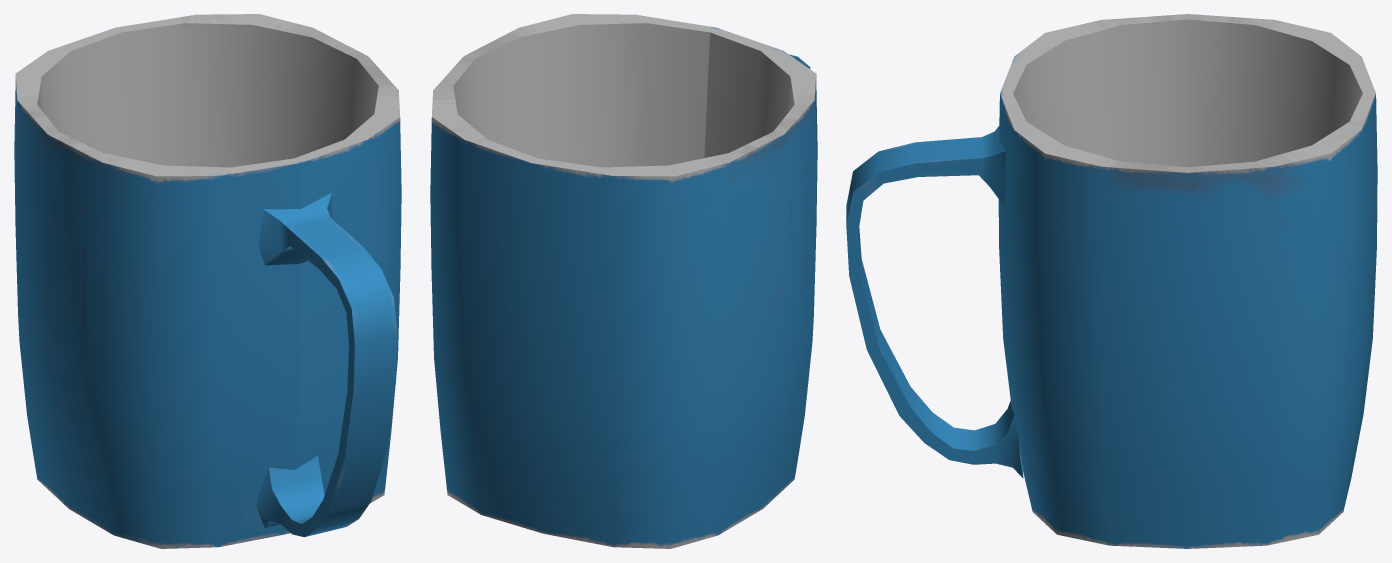
File: mug.fbx
The picture shows the model from 3 angles, left to right: view 1: azimuth 30°, elevation 25°; view 2: azimuth 150°, elevation 25°; view 3: azimuth 270°, elevation 25°; orthographic projection.
Parts seen in each view (by area): view 1: pCube5, pCube4; view 2: pCube5; view 3: pCube5, pCube4.
Boxes of the visible parts, <box> form: pCube5: <box>14,14,401,548</box>; pCube4: <box>256,193,397,537</box>; pCube5: <box>430,14,817,548</box>; pCube5: <box>998,14,1377,548</box>; pCube4: <box>846,126,1023,478</box>.
Bounding box in the file's own units: 1.33 × 1.5 × 1.87.
Materials: 1 (1 with a texture image).
